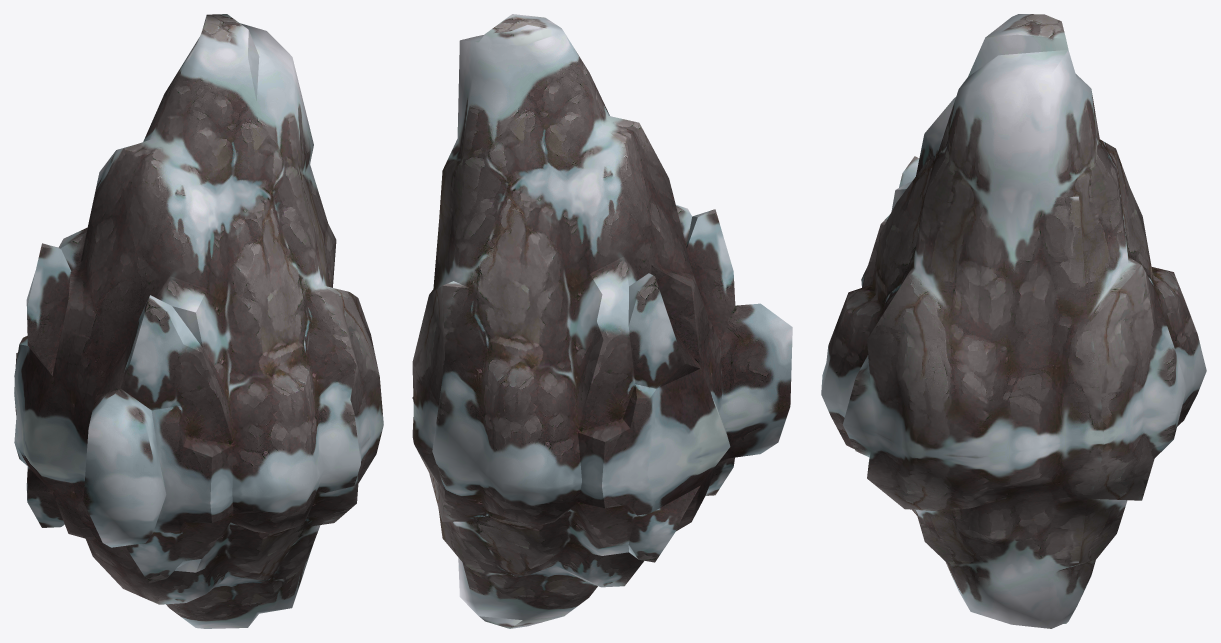
3 renders of one model, left to right at view 1: azimuth 30°, elevation 25°; view 2: azimuth 150°, elevation 25°; view 3: azimuth 270°, elevation 25°, orthographic.
Parts seen in each view (by area): view 1: yw_jisi_03_shanshi01_0; view 2: yw_jisi_03_shanshi01_0; view 3: yw_jisi_03_shanshi01_0.
Part boxes in pixels (x1=…): yw_jisi_03_shanshi01_0: x1=14, y1=14, x2=383, y2=628; yw_jisi_03_shanshi01_0: x1=412, y1=14, x2=792, y2=628; yw_jisi_03_shanshi01_0: x1=821, y1=14, x2=1206, y2=628.
Size of the model in its own units: 3.5 by 6.24 by 3.64.
Materials: 1 (1 with a texture image).
